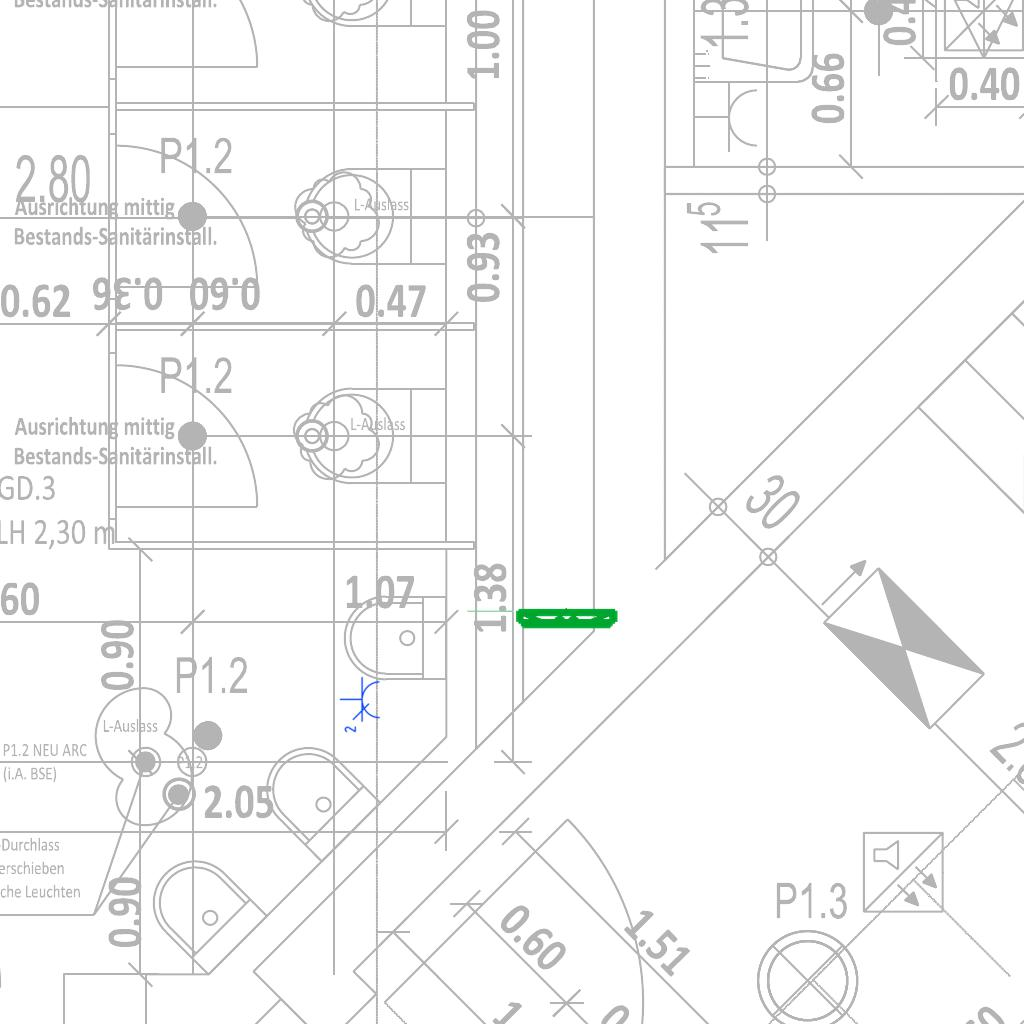Schukosteckdose_mehrfach: (339, 676, 383, 736)
Sicherheitsleuchte_Wandeinbau: (462, 607, 621, 632)
